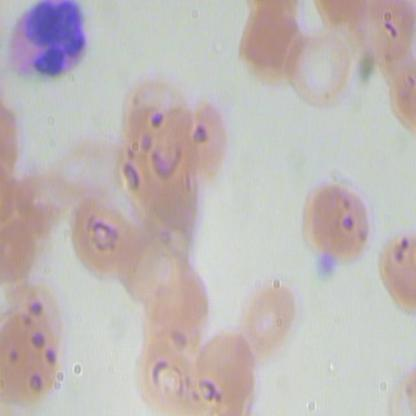Platelets: (312, 252, 338, 283)
RBC: (294, 173, 381, 267), (1, 309, 70, 410), (232, 276, 302, 364), (192, 328, 262, 416), (70, 192, 140, 280), (128, 328, 198, 416), (235, 1, 306, 87), (286, 21, 356, 108), (147, 254, 215, 331), (189, 98, 231, 182), (374, 233, 415, 318)
WBC: (6, 1, 89, 89)
